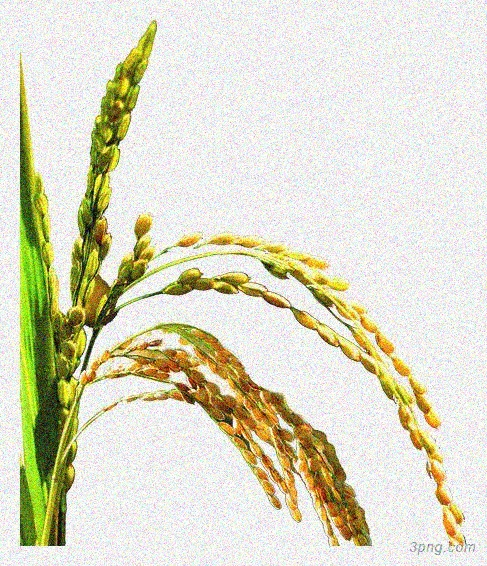rice: (120, 210, 467, 539), (91, 322, 370, 548)
